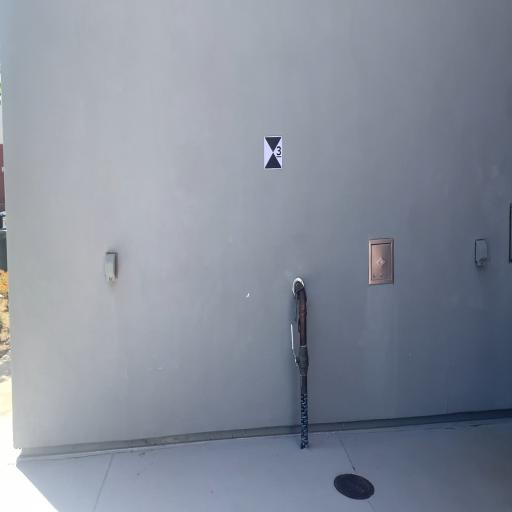target3: (264, 136, 282, 169)
